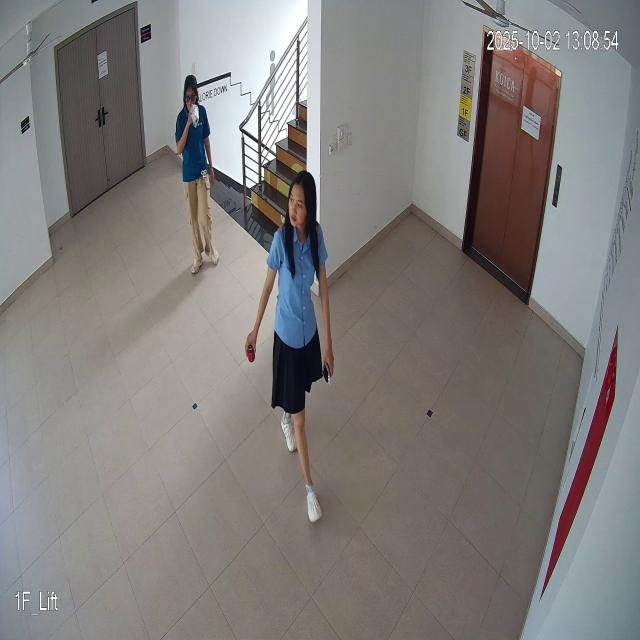face: (286, 170, 315, 237)
